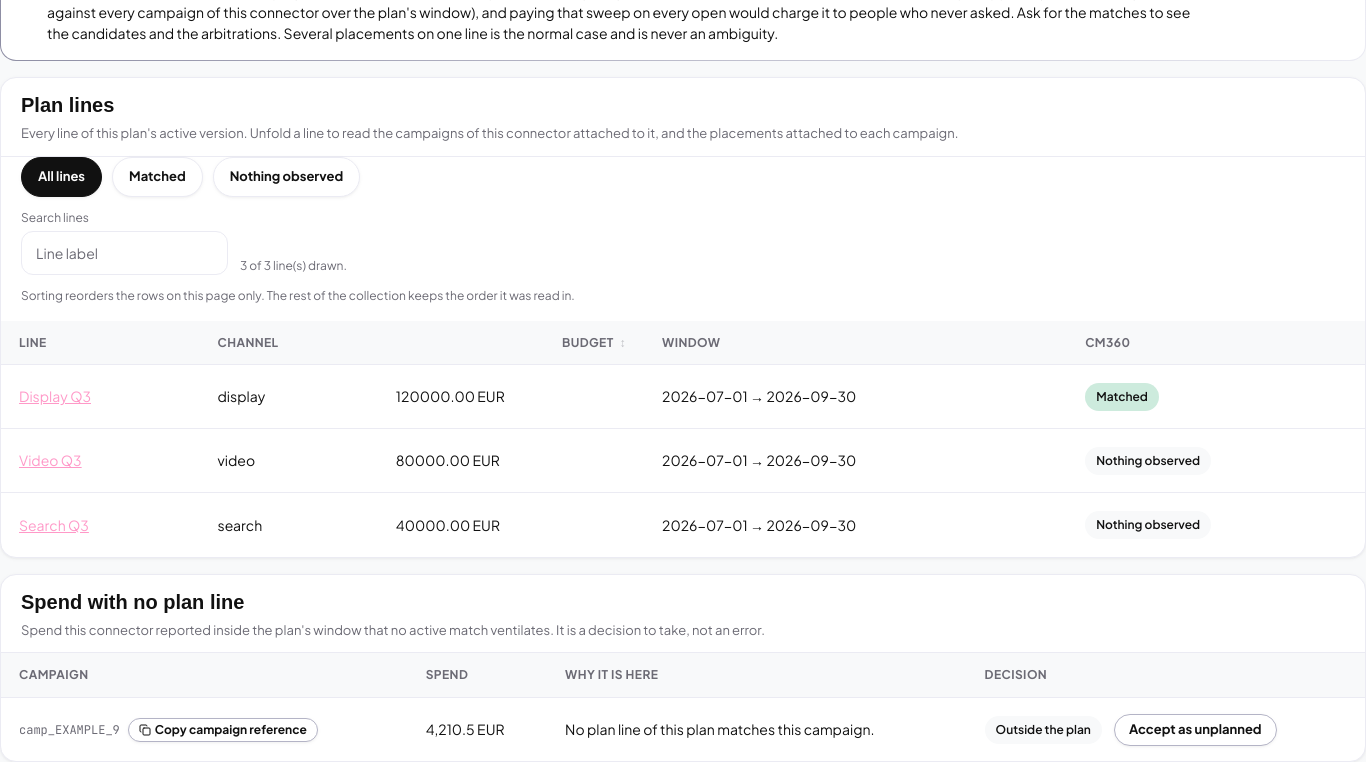
Datastream Workbench — Placements › unfolds a line onto its campaigns and each campaign onto its placements
This screenshot has width=1366, height=762.
(page scrolled)
Click the button "Display Q3": click(55, 397) left=19, top=386, right=91, bottom=407
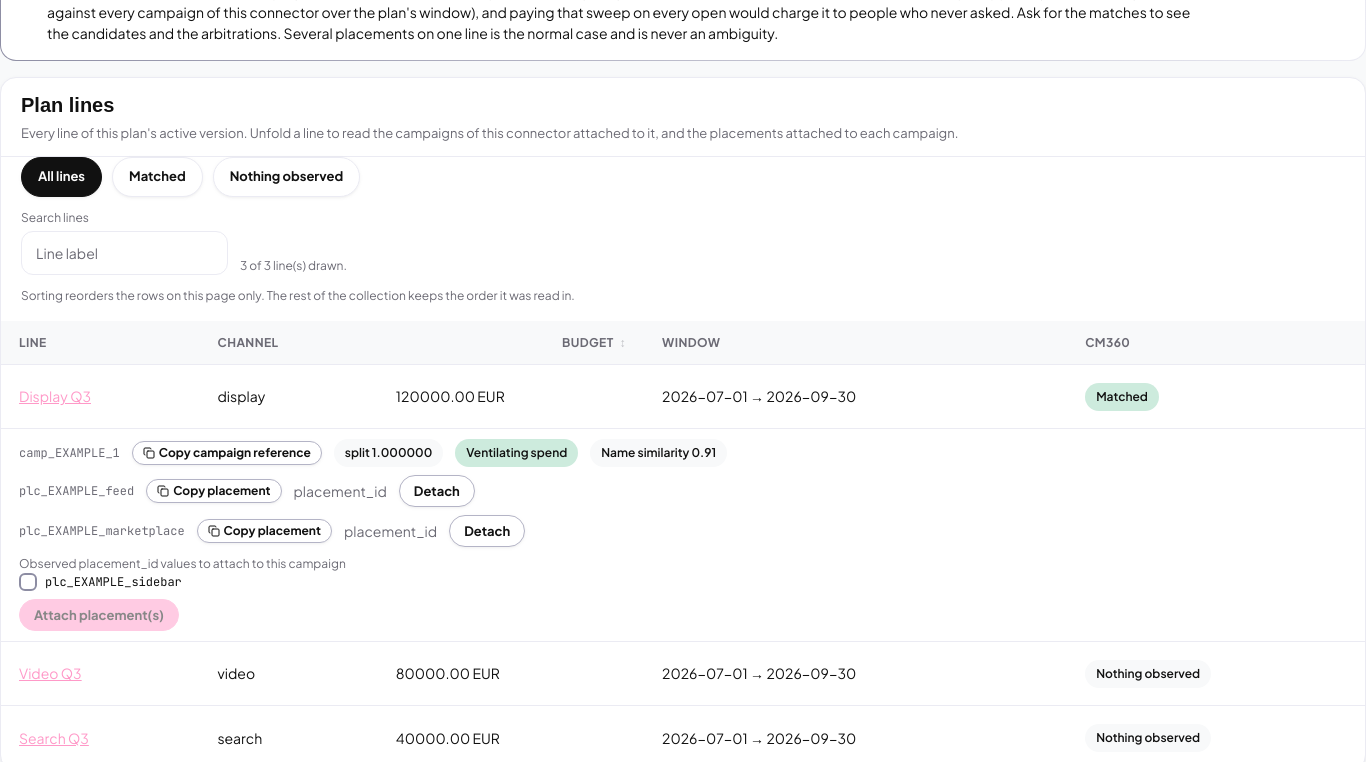
Expected: the text "camp_EXAMPLE_1" is shown, left=19, top=444, right=120, bottom=462
Expected: the text "split 1.000000" is shown, left=334, top=439, right=443, bottom=467
Expected: the text "plc_EXAMPLE_feed" is shown, left=19, top=482, right=134, bottom=500
